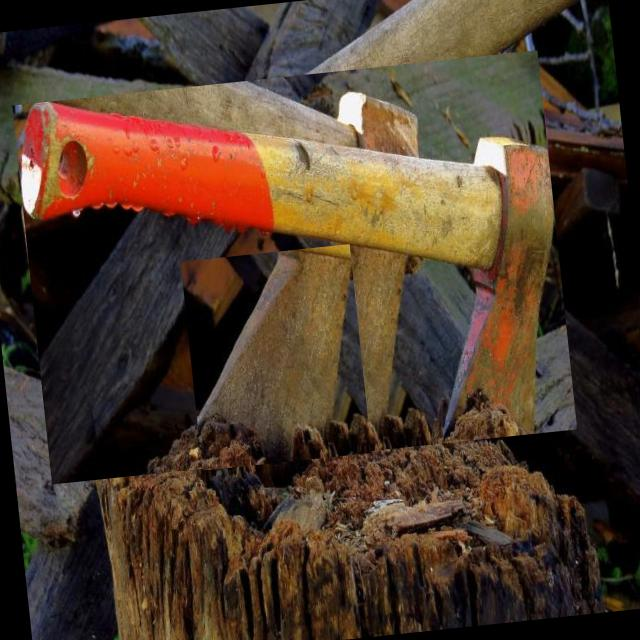Axe: (21, 102, 553, 434), (145, 0, 575, 183), (198, 251, 352, 462)
